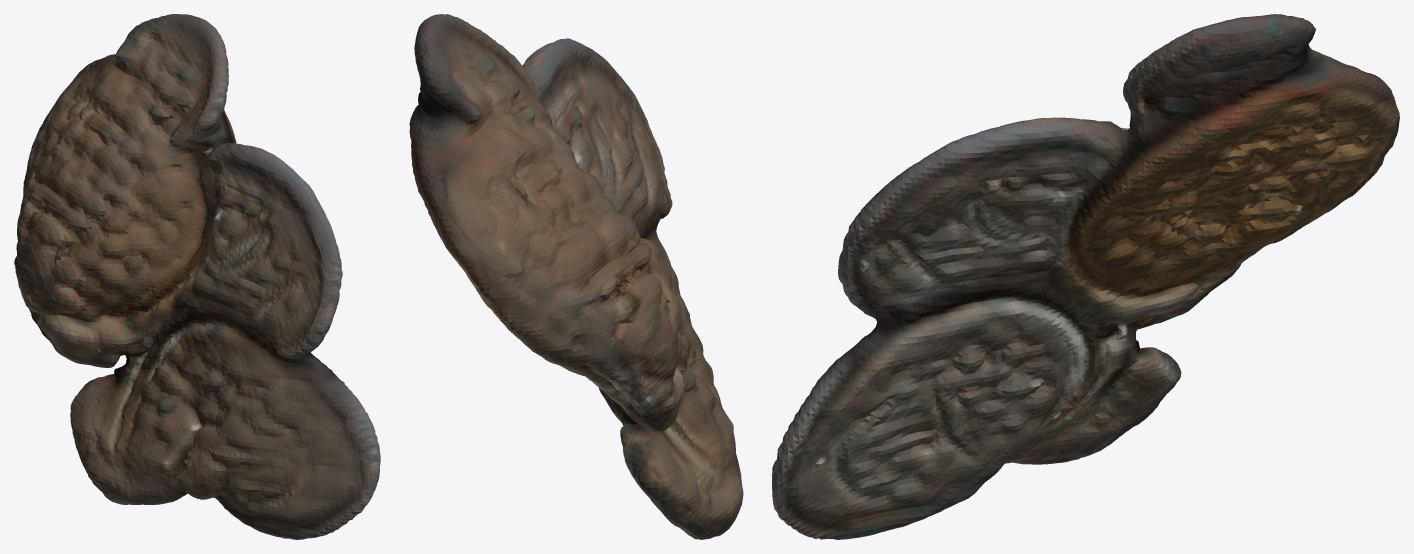
The picture shows the model from 3 angles, left to right: view 1: azimuth 30°, elevation 25°; view 2: azimuth 150°, elevation 25°; view 3: azimuth 270°, elevation 25°; orthographic projection. The views are drawn at different scales.
Size of the model in its own units: 0.3715 by 0.7578 by 0.7817.
